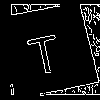T: (24, 25, 64, 76)
